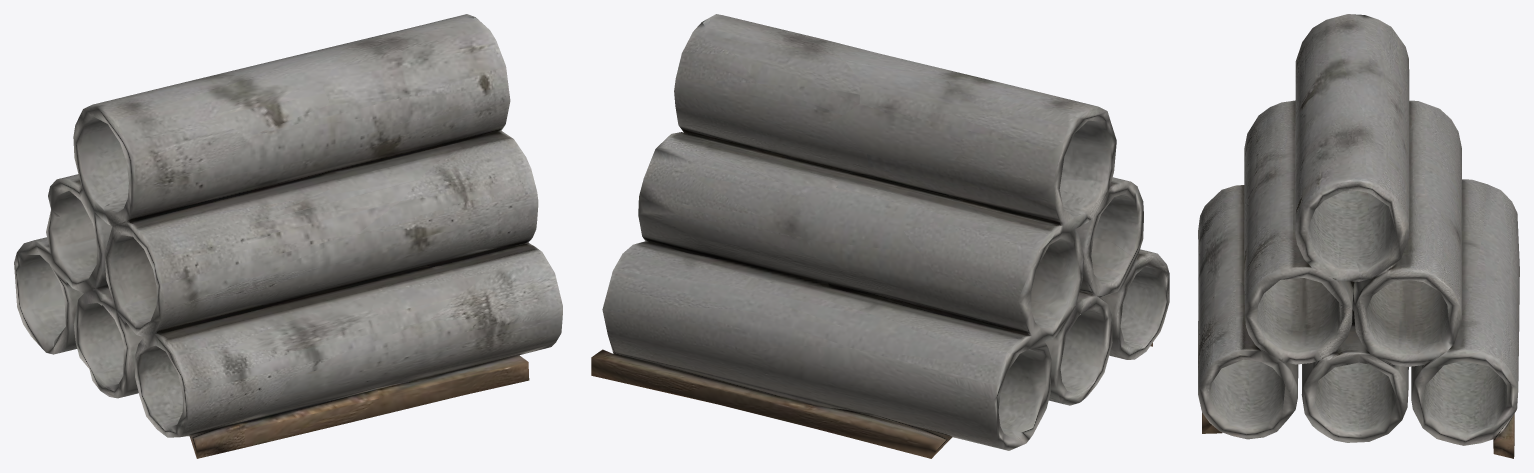
File: teluk-pipe-stack.glb
3 views of the same model, side by side, from view 1: azimuth 30°, elevation 25°; view 2: azimuth 150°, elevation 25°; view 3: azimuth 270°, elevation 25° (orthographic). The views are drawn at different scales.
Parts seen in each view (by area): view 1: teluk-pipe-stack; view 2: teluk-pipe-stack; view 3: teluk-pipe-stack.
Part boxes in pixels (<box>): teluk-pipe-stack: <box>14,14,562,458</box>; teluk-pipe-stack: <box>591,14,1169,458</box>; teluk-pipe-stack: <box>1198,14,1519,458</box>.
Bounding box in the file's own units: 4.6 × 3.24 × 3.52.
Materials: 1 (1 with a texture image).
